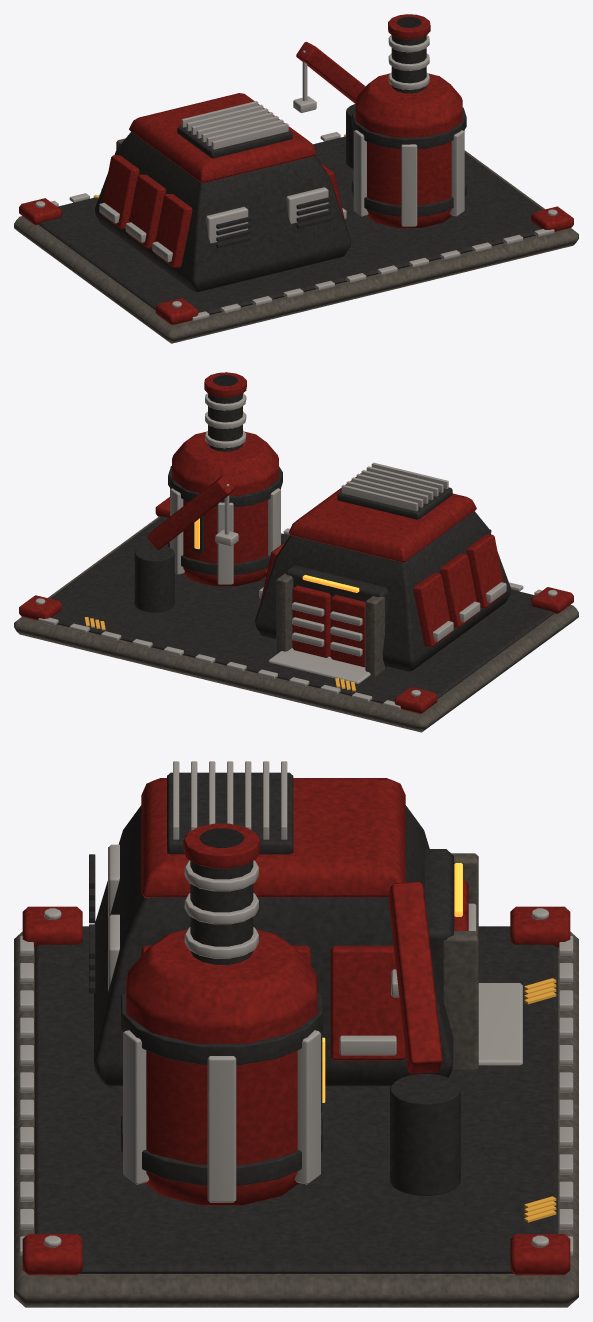
File: kharn_fonderie_lourde.gltf
3 renders of one model, top to bottom at view 1: azimuth 30°, elevation 25°; view 2: azimuth 150°, elevation 25°; view 3: azimuth 270°, elevation 25°, orthographic. The views are drawn at different scales.
Parts seen in each view (by area): view 1: Root.016_Geometry, Arm_0_Geometry; view 2: Root.016_Geometry, Door_R.005_Geometry, Arm_0_Geometry, Door_L.005_Geometry; view 3: Root.016_Geometry, Arm_0_Geometry.
Boxes of the visible parts, box(x1,y1,x2,y2) form: Root.016_Geometry: box(14, 14, 578, 343); Arm_0_Geometry: box(293, 41, 365, 112); Root.016_Geometry: box(14, 372, 578, 732); Door_R.005_Geometry: box(292, 585, 331, 657); Arm_0_Geometry: box(147, 475, 238, 549); Door_L.005_Geometry: box(330, 595, 365, 667); Root.016_Geometry: box(14, 761, 578, 1307); Arm_0_Geometry: box(388, 881, 442, 1073).
Size of the model in its own units: 5.94 by 2.89 by 3.94.
Materials: 7 (4 with a texture image).
